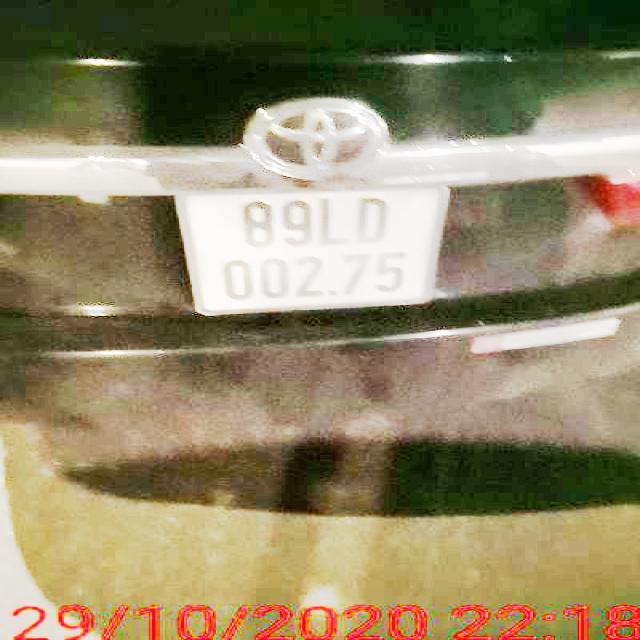license_plate: (184, 185, 447, 314)
